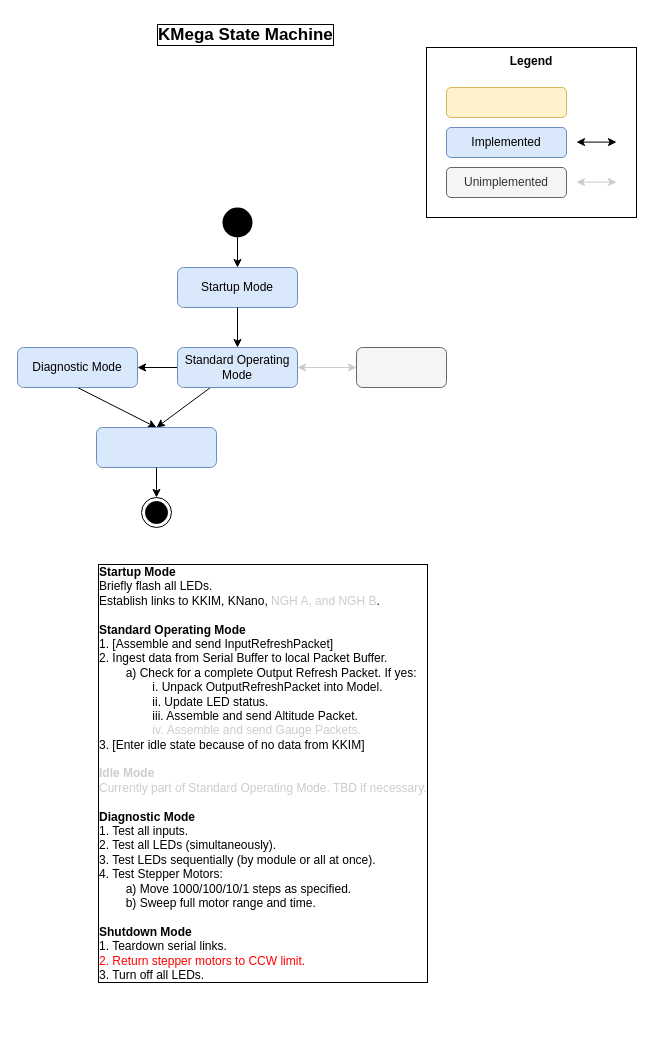
Image size: 654x1043. Some labels were removed from this diagram. Here are the shapes that lost their labels. From the top down, the box of each, then its label:
(446, 86, 566, 118): Implemented (more work required)
(356, 346, 446, 388): Idle Mode
(96, 426, 216, 468): Shutdown Mode
